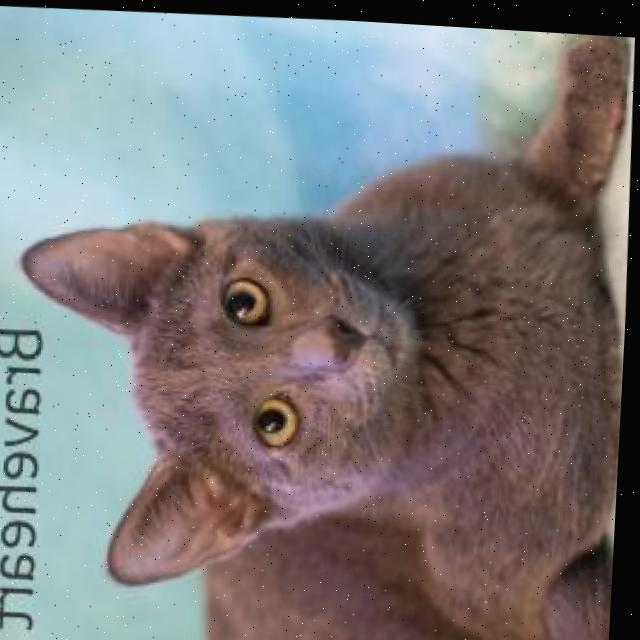Russian Blue: (0, 1, 640, 640)
